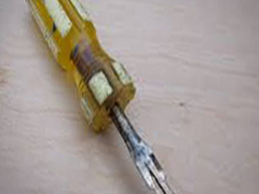screwdriver: (23, 1, 194, 193)
